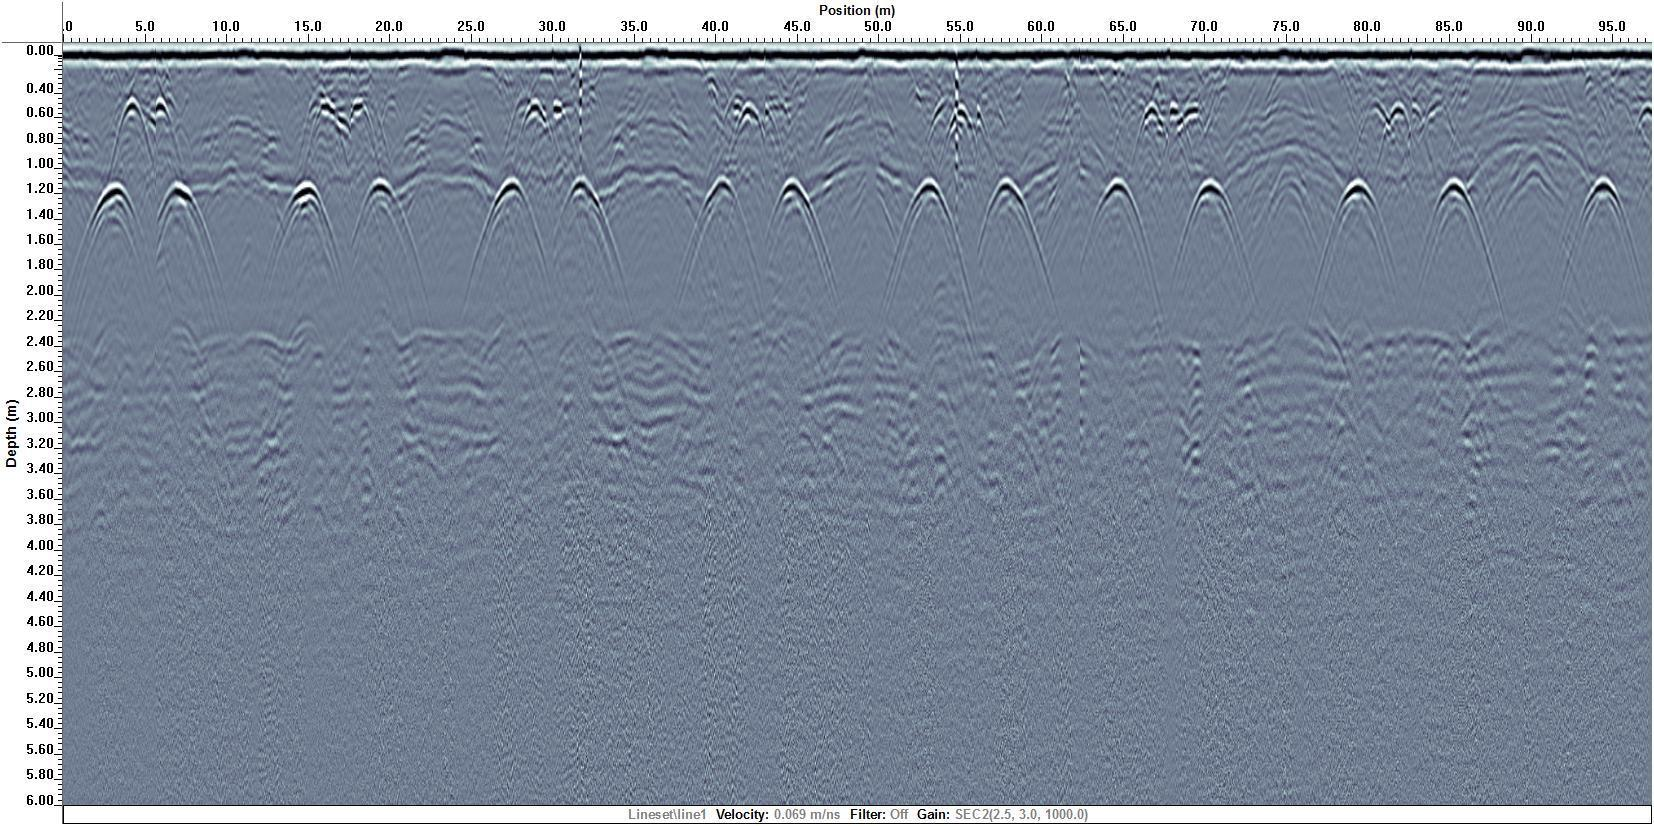hyperbola: (1417, 176, 1509, 330), (1550, 173, 1647, 302), (1076, 177, 1162, 304), (1170, 178, 1256, 305), (1314, 179, 1400, 306), (680, 173, 759, 297), (465, 177, 544, 301), (544, 176, 623, 300), (886, 180, 965, 304), (759, 178, 838, 302), (970, 176, 1049, 300), (276, 178, 334, 278), (351, 178, 409, 278), (81, 183, 139, 282), (149, 180, 207, 280), (104, 96, 153, 181), (514, 100, 552, 164), (943, 105, 977, 157), (730, 105, 764, 156), (1134, 105, 1168, 156), (1382, 99, 1416, 150)
